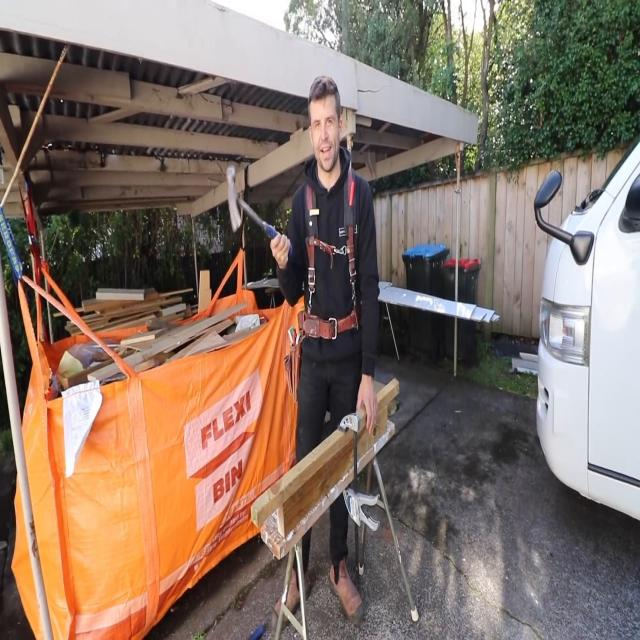hammer: (224, 164, 296, 257)
